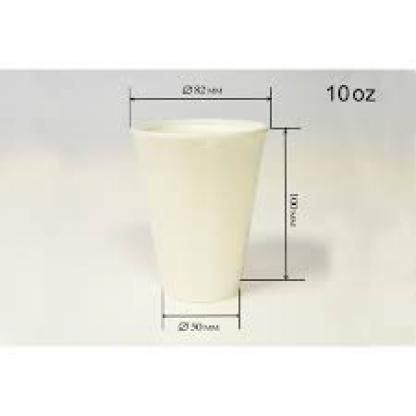paper: (126, 116, 270, 302)
